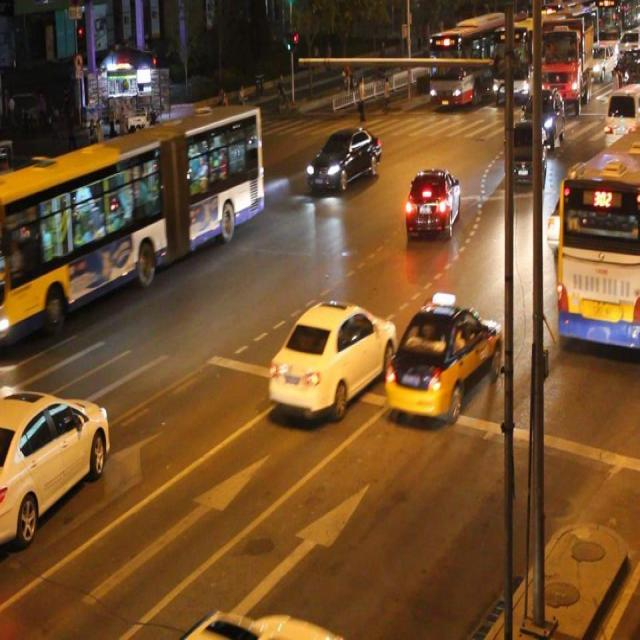BigCar: (4, 87, 263, 356), (561, 150, 640, 368), (421, 25, 492, 109), (535, 22, 598, 108), (496, 27, 538, 106)
car: (0, 383, 126, 551), (272, 271, 393, 421), (393, 290, 505, 432), (304, 123, 383, 203), (402, 160, 460, 247), (505, 121, 553, 201), (524, 89, 568, 147)
